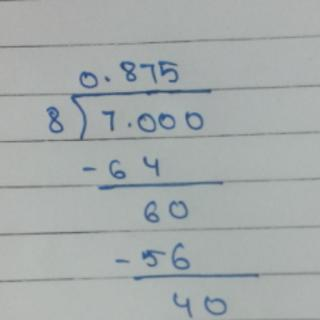.: (102, 73, 113, 84), (124, 119, 132, 130)
0: (134, 109, 160, 135), (202, 294, 230, 317), (167, 199, 190, 222), (184, 109, 206, 132), (77, 69, 99, 91), (156, 110, 178, 132)
4: (170, 287, 193, 318), (140, 152, 161, 178)
5: (156, 58, 182, 85), (140, 246, 168, 270)
6: (168, 237, 194, 273), (138, 197, 164, 226), (104, 157, 129, 182)
7: (97, 106, 120, 133), (137, 61, 157, 85)
8: (44, 102, 69, 134), (119, 57, 137, 85)
